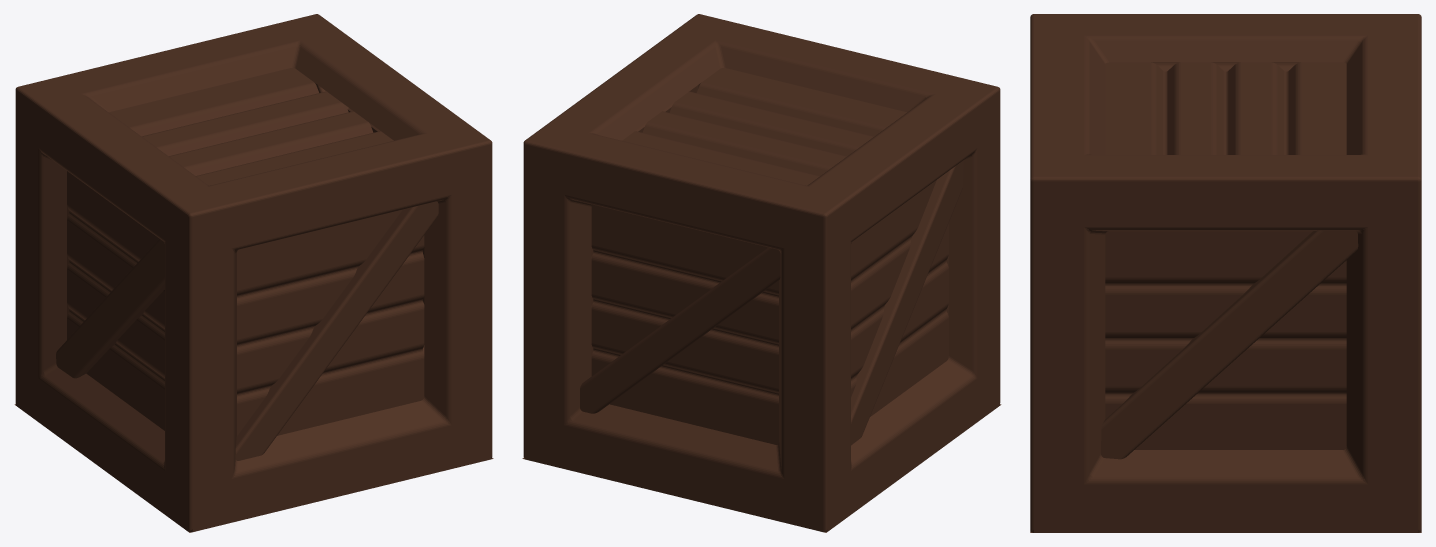
File: caixamadeira2.fbx
The picture shows the model from 3 angles, left to right: view 1: azimuth 30°, elevation 25°; view 2: azimuth 150°, elevation 25°; view 3: azimuth 270°, elevation 25°; orthographic projection. The views are drawn at different scales.
Parts seen in each view (by area): view 1: Cube.003; view 2: Cube.003; view 3: Cube.003.
Boxes of the visible parts, x1,y1,x2,y2 form: Cube.003: [14, 14, 493, 532]; Cube.003: [522, 14, 1001, 532]; Cube.003: [1030, 14, 1421, 532].
Bounding box in the file's own units: 53.02 × 53.02 × 53.02.
